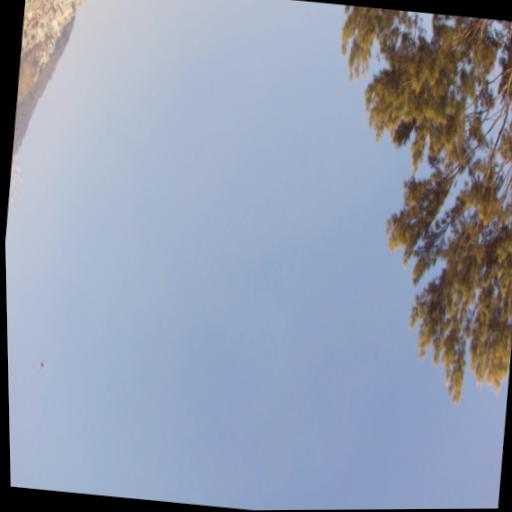drones: (35, 355, 49, 374)
